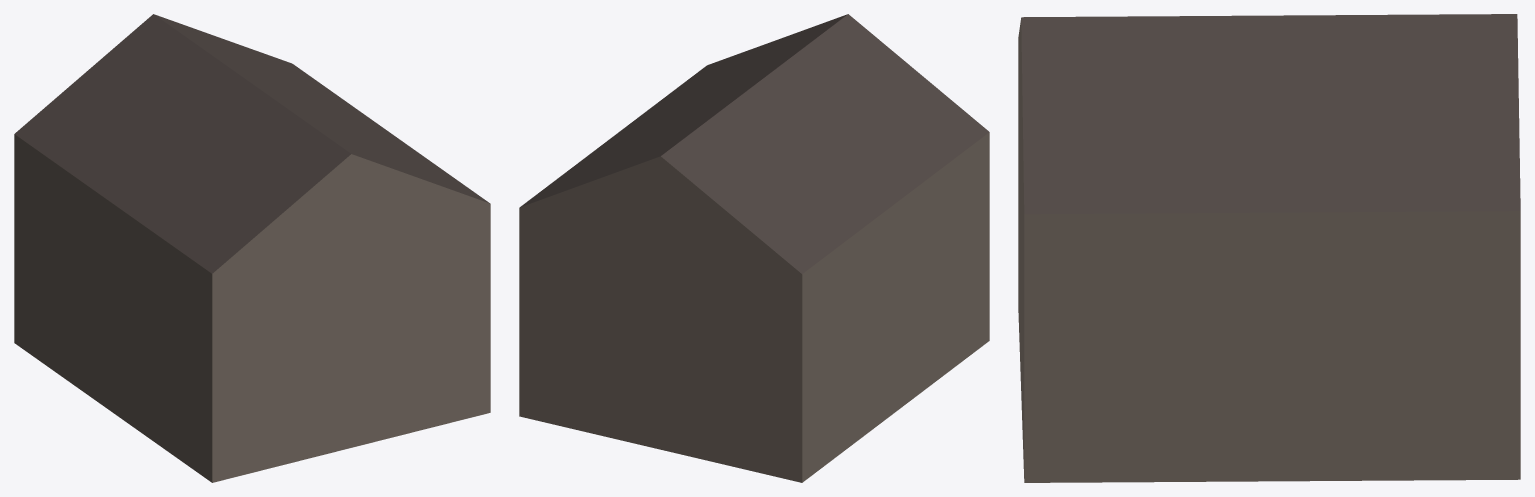
3 renders of one model, left to right at view 1: azimuth 30°, elevation 25°; view 2: azimuth 150°, elevation 25°; view 3: azimuth 270°, elevation 25°, orthographic. The views are drawn at different scales.
Parts seen in each view (by area): view 1: HP-w859424245; view 2: HP-w859424245; view 3: HP-w859424245.
Part boxes in pixels (x1,y1,x2,y2): HP-w859424245: [14, 14, 490, 482]; HP-w859424245: [519, 14, 989, 482]; HP-w859424245: [1018, 14, 1520, 482].
Size of the model in its own units: 8.59 by 8.43 by 10.17.
